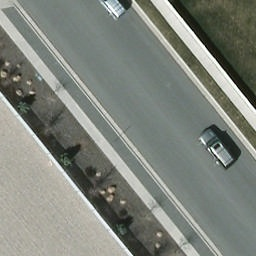car: (197, 127, 235, 166), (97, 1, 127, 19)
